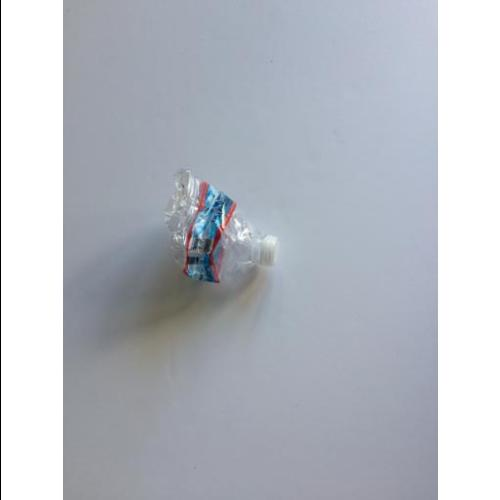plastic: (169, 167, 278, 291)
